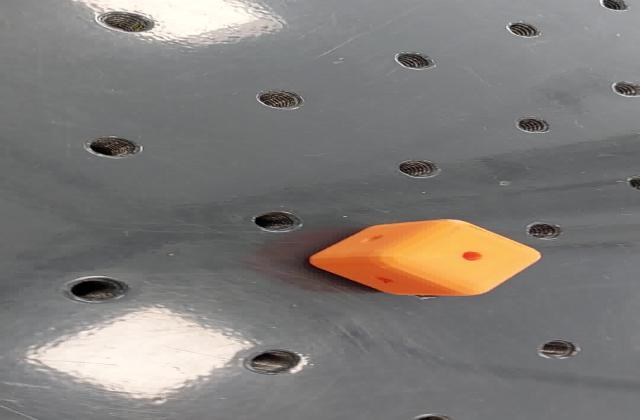cube: (302, 218, 550, 300)
